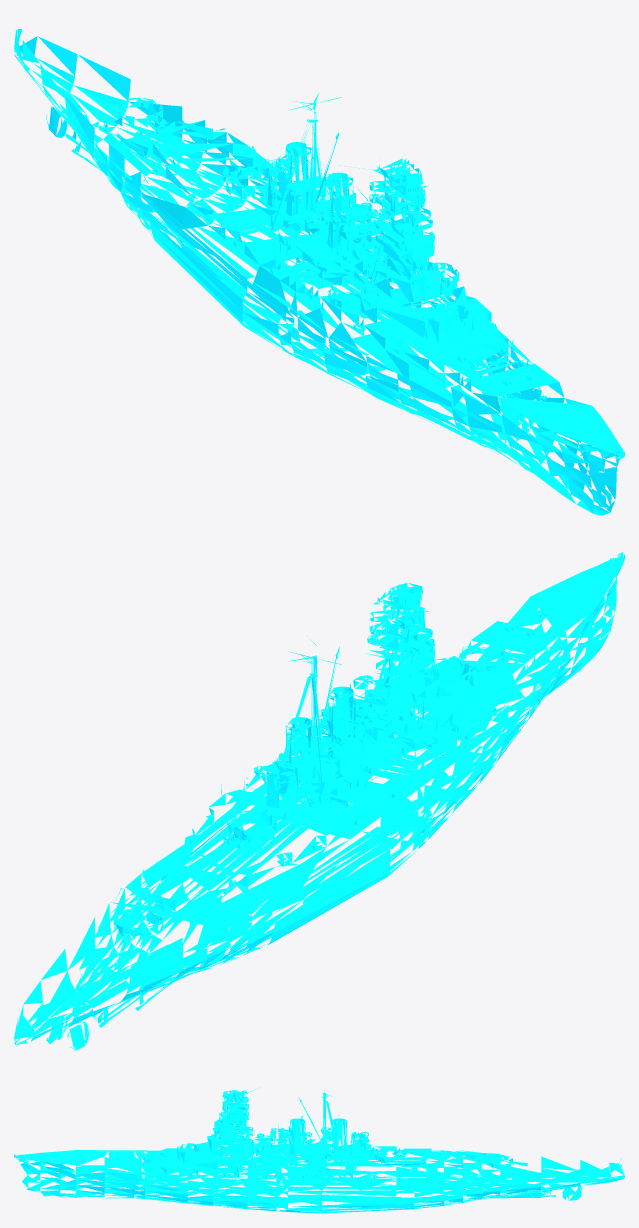
File: HSF_Hiei.glb
3 views of the same model, one above another, from view 1: azimuth 30°, elevation 25°; view 2: azimuth 150°, elevation 25°; view 3: azimuth 270°, elevation 25° (orthographic). The views are drawn at different scales.
Size of the model in its own units: 2.07 by 3.17 by 14.78.
